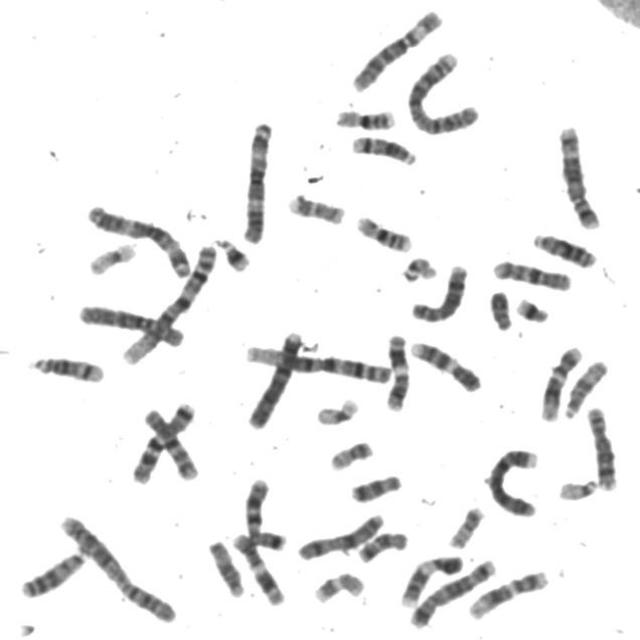A1: (116, 238, 219, 367), (240, 338, 396, 385)
A2: (52, 508, 179, 625), (402, 45, 483, 136)
A3: (81, 197, 194, 278), (237, 115, 276, 245)
B4: (240, 324, 306, 430), (481, 441, 542, 519)
B5: (406, 552, 499, 630), (552, 119, 603, 230)
C10: (137, 401, 201, 483), (487, 253, 575, 292)
C11: (226, 526, 287, 608), (379, 327, 412, 413)
C12: (463, 564, 551, 620), (535, 339, 585, 423)
C6: (346, 2, 446, 93), (73, 297, 188, 349)
C7: (126, 396, 198, 485), (237, 472, 288, 554)
C8: (405, 258, 471, 323), (582, 400, 621, 493)
C9: (405, 334, 484, 393), (394, 548, 465, 609)
D13: (14, 543, 89, 600), (527, 227, 599, 270)
D14: (23, 349, 107, 384), (345, 128, 419, 166)
D15: (558, 354, 611, 419), (202, 534, 246, 599)
E16: (350, 209, 416, 254), (329, 102, 399, 131)
E17: (283, 186, 347, 226), (308, 566, 367, 604)
E18: (352, 526, 411, 564), (345, 467, 404, 504)
F19: (82, 236, 138, 276), (310, 391, 361, 427)
F20: (443, 500, 487, 550), (324, 434, 376, 472)
G21: (210, 232, 253, 274), (510, 291, 552, 324)
G22: (552, 472, 601, 502), (396, 250, 440, 283)
X: (291, 506, 386, 562)
Y: (484, 284, 515, 331)
